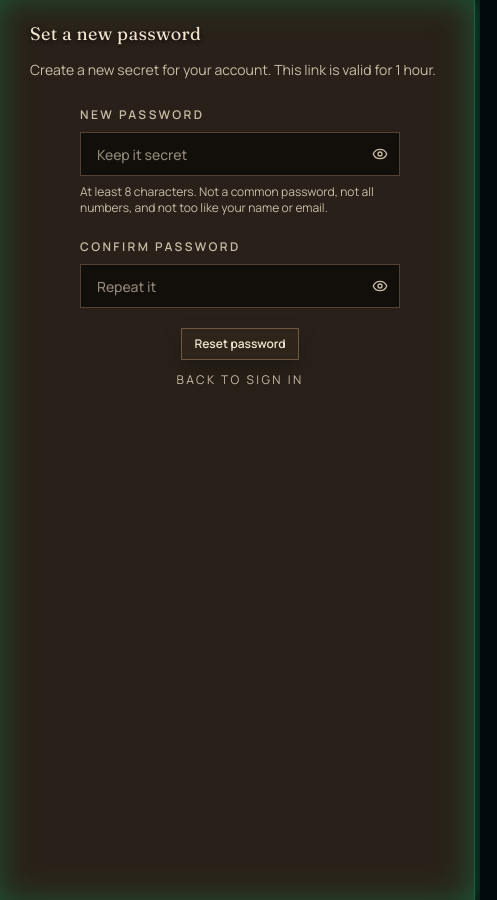
Test: ResetPassword (AUTH-TEST-27) › keeps the session when the reset is refused
Type "wyrdstone-42" into the password field labelled "New password" at (240, 154), box [80,132,400,176]
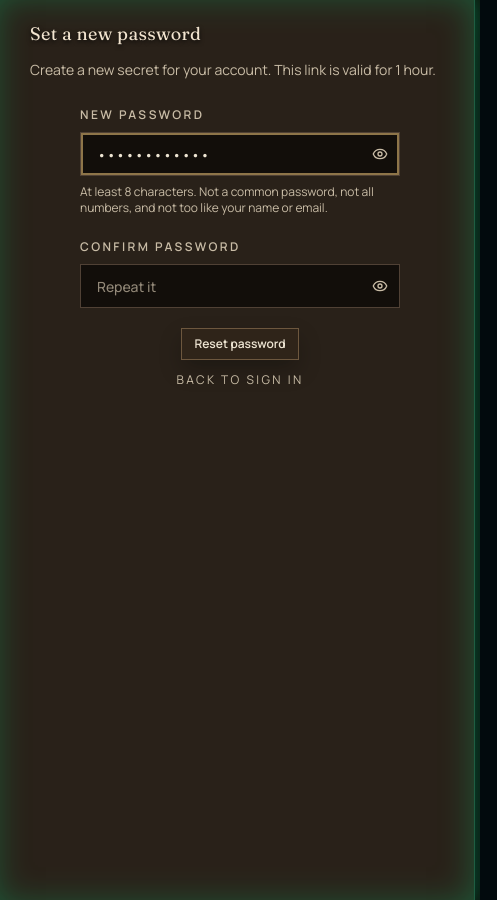
Type "wyrdstone-42" into the password field labelled "Confirm password" at (240, 286), box [80,264,400,308]
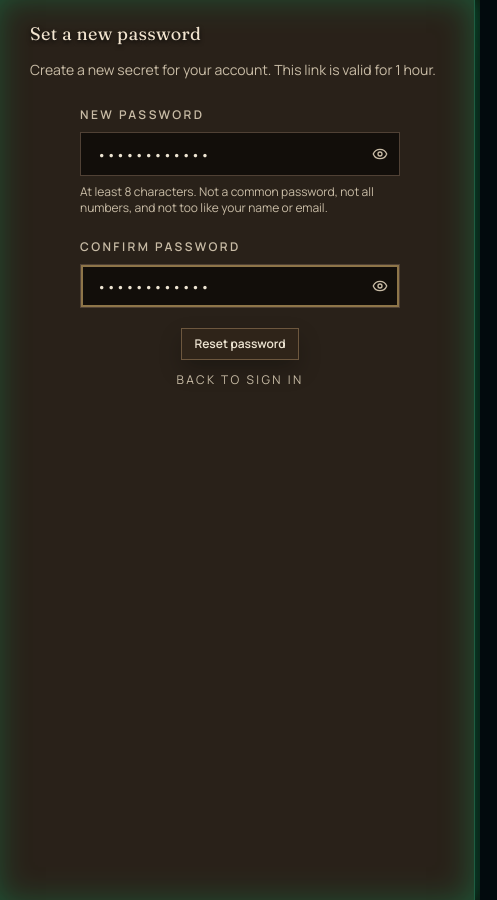
Click the button "Reset password" at (240, 344), box [181,328,299,360]
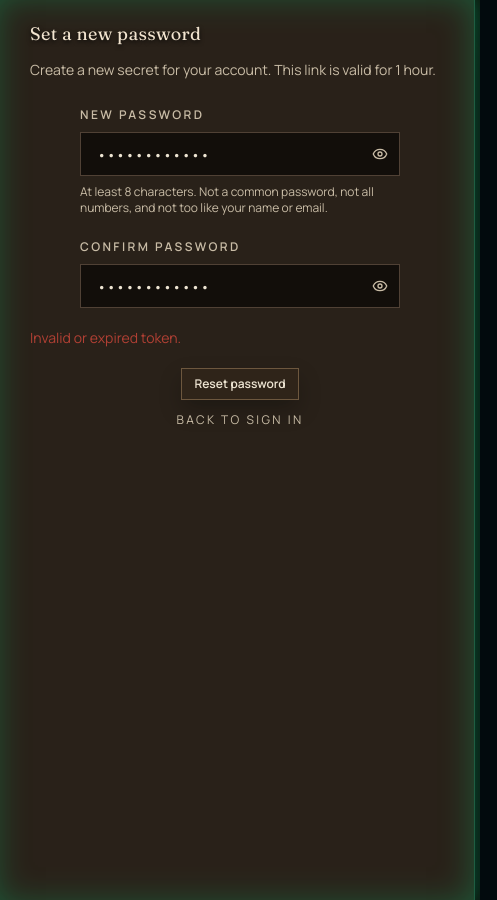
Now the message reads "Invalid or expired token.", box [30,328,181,347]
